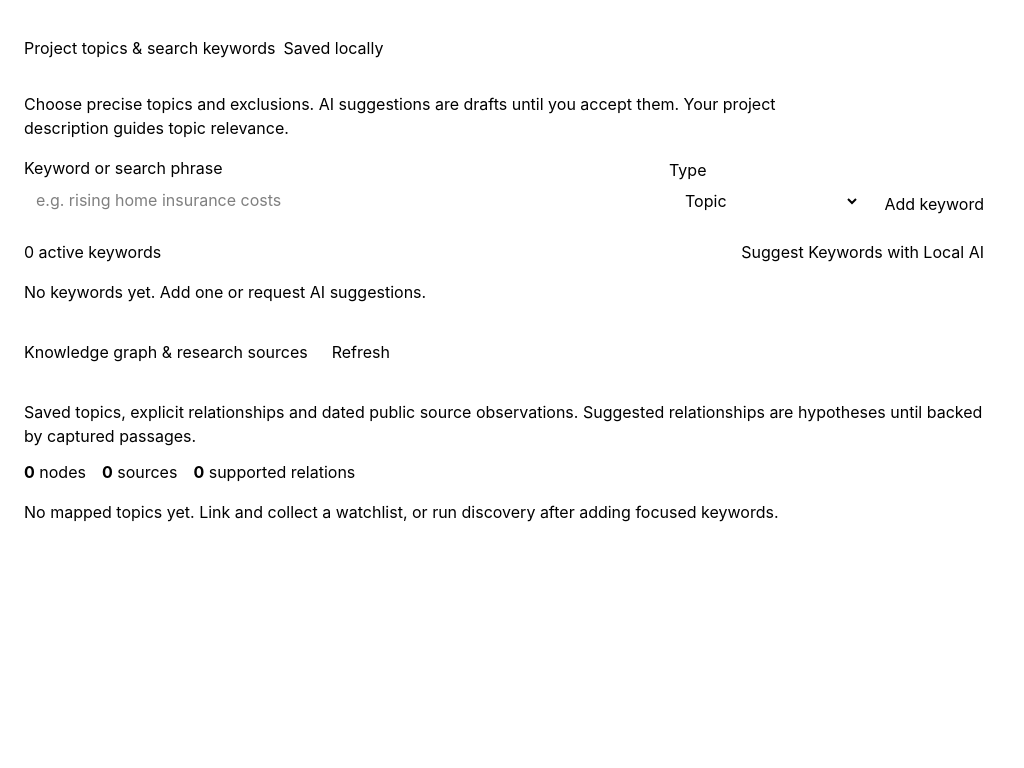
Test: Project discovery author controls › marks locally generated keyword suggestions as unverified and explains quality filtering
Click the button "Suggest Keywords with Local AI" at (863, 252), box left=725, top=236, right=1000, bottom=268
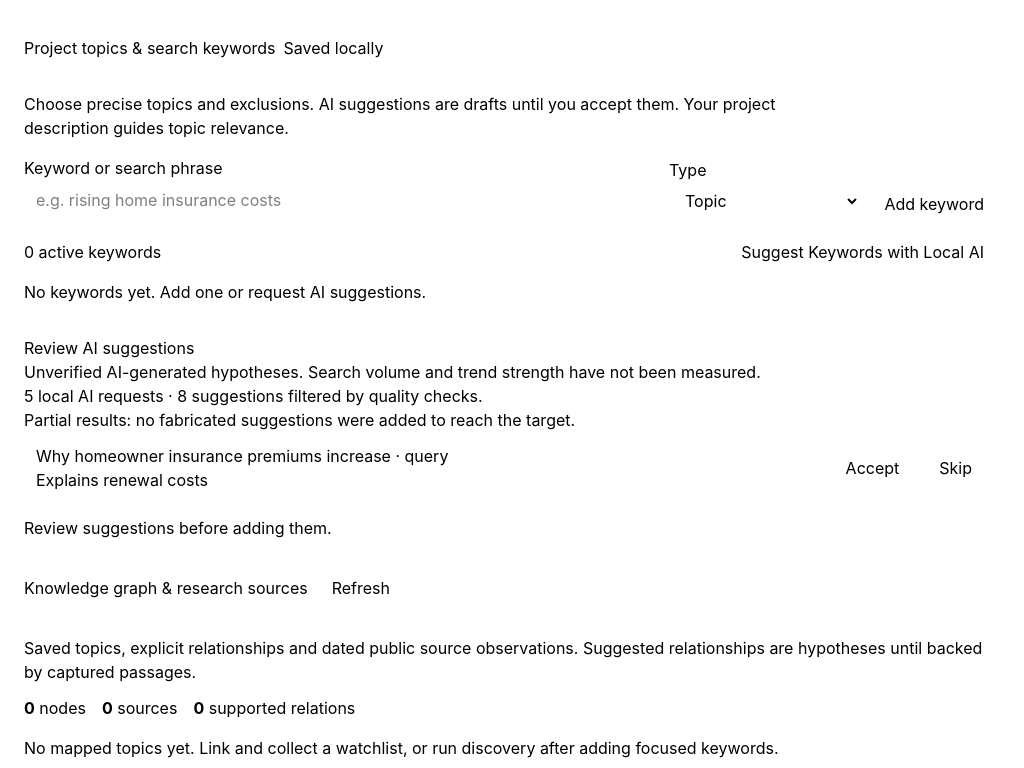
Now the text "Why homeowner insurance premiums increase" is shown, box left=36, top=446, right=391, bottom=466
